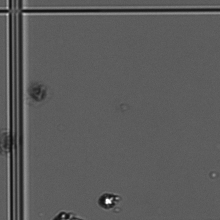Dead Cell: (29, 79, 53, 110)
Living Cell: (95, 187, 120, 213)
